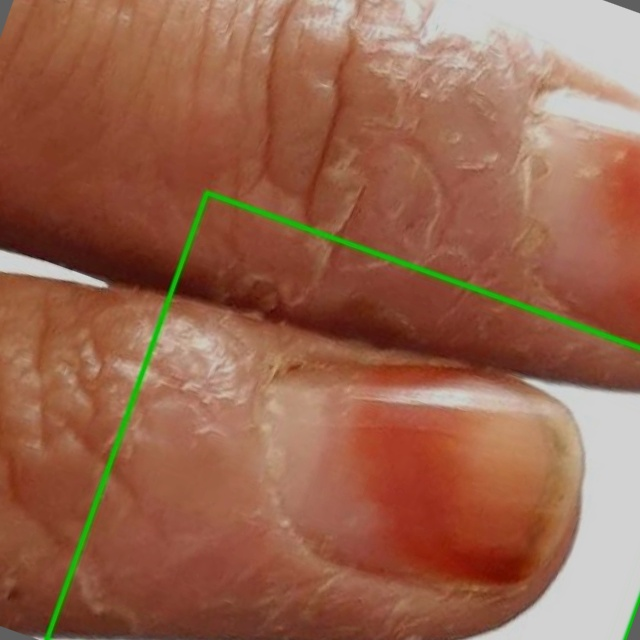Contact Dermatitis: (46, 192, 639, 639)
